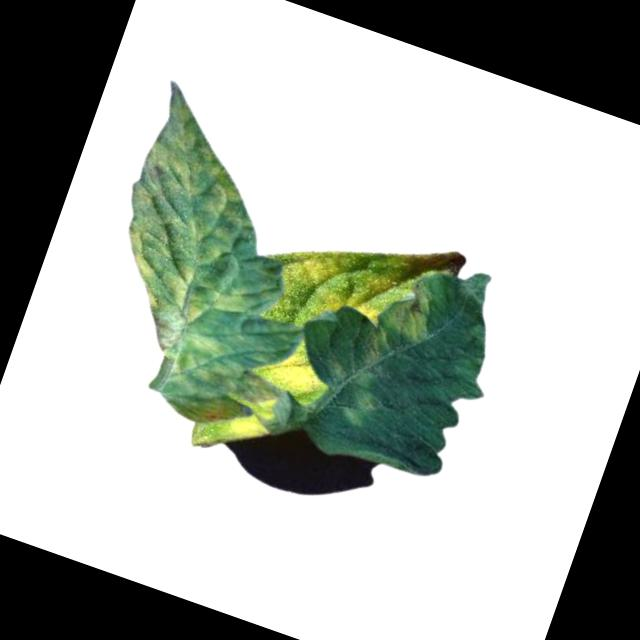Leaf_Mold: (62, 83, 330, 440), (269, 238, 393, 333), (359, 265, 445, 377), (250, 331, 335, 410), (219, 404, 266, 445)
